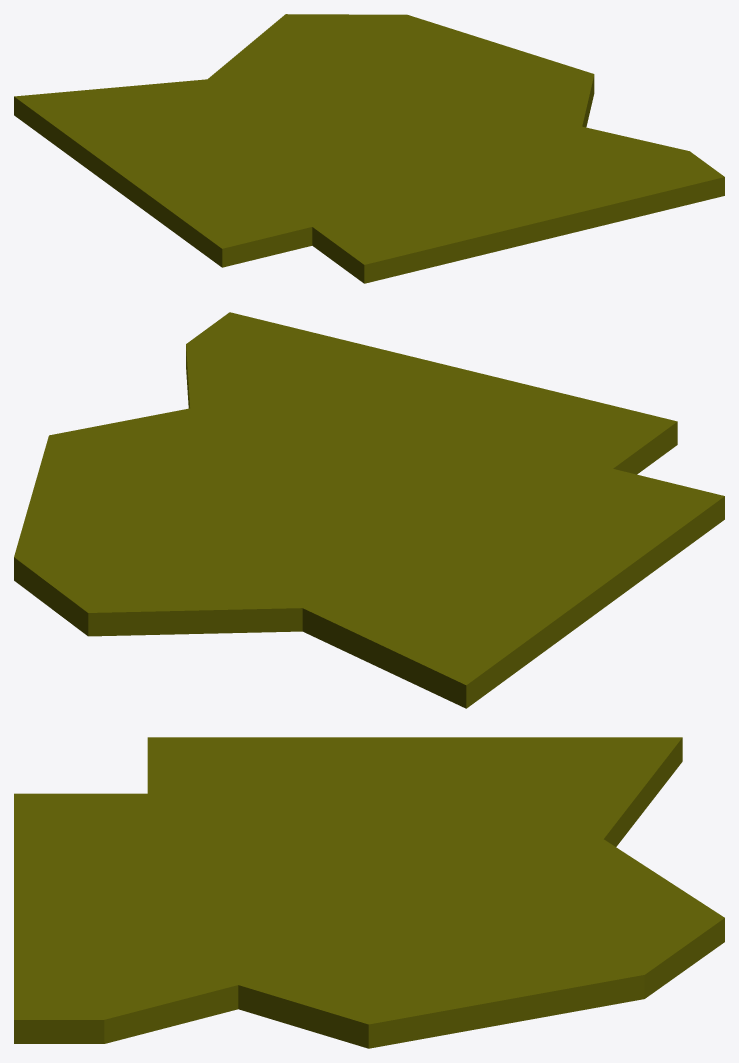
File: x_0_boloto_34_1_rmstrd.fbx
3 renders of one model, top to bottom at view 1: azimuth 30°, elevation 25°; view 2: azimuth 150°, elevation 25°; view 3: azimuth 270°, elevation 25°, orthographic. The views are drawn at different scales.
Visible parts, largest first — view 1: x_0_boloto_34_1_rmstrd1; view 2: x_0_boloto_34_1_rmstrd1; view 3: x_0_boloto_34_1_rmstrd1.
Boxes of the visible parts, left/top/right/bottom form: x_0_boloto_34_1_rmstrd1: left=14, top=14, right=724, bottom=283; x_0_boloto_34_1_rmstrd1: left=14, top=312, right=724, bottom=708; x_0_boloto_34_1_rmstrd1: left=14, top=737, right=724, bottom=1048.
Size of the model in its own units: 5.08 by 0.2 by 5.32.
